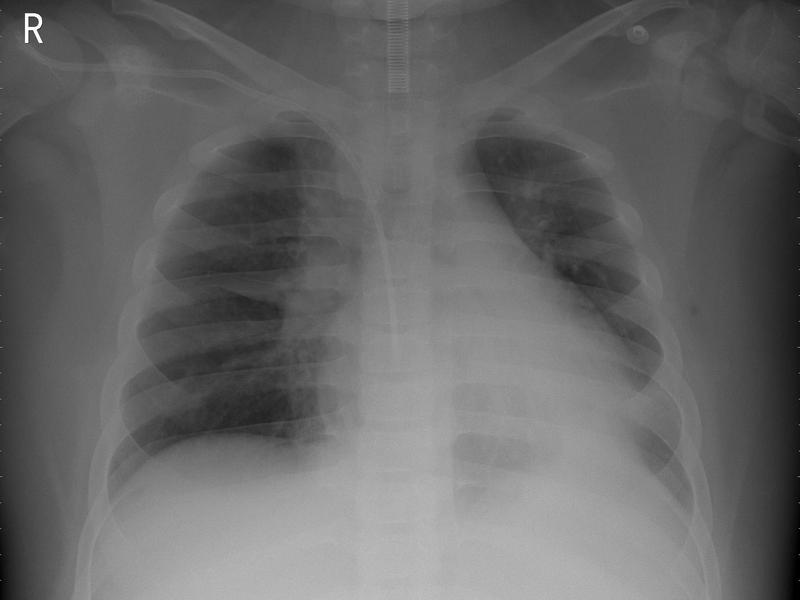PNEUMONIA: (595, 303, 699, 499), (498, 144, 628, 284)
